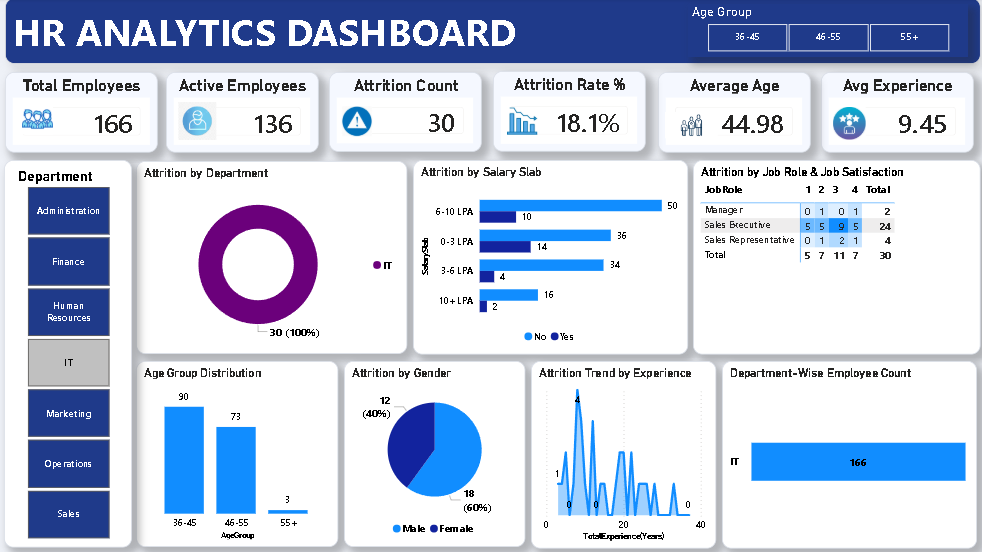

This screenshot's page, from the dashboard's own definition file:
{"tool":"powerbi","page":{"name":"Page 1","canvas":[1280,720],"ordinal":0},"visuals":[{"type":"textbox","box":[10,0,1259,85],"z":0},{"type":"cardVisual","title":"Total Employees","fields":{"Data":["CountNonNull(HR_Analytics-4.EmpID)"]},"box":[10,95,197,104],"z":1000},{"type":"cardVisual","title":"Active Employees","fields":{"Data":["CountNonNull(HR_Analytics-4.EmployeeCount)"]},"box":[218.3,95.4,196.6,104.1],"z":2000},{"type":"cardVisual","title":"Attrition Count","fields":{"Data":["Sum(HR_Analytics-4.Attrition_Count)"]},"box":[428,95.4,196.6,102.7],"z":3000},{"type":"cardVisual","title":"Avg Experience","fields":{"Data":["Avg(HR_Analytics-4.YearsatCompany)"]},"box":[1062.7,95.4,196.6,104.1],"z":4000},{"type":"cardVisual","title":"Average Age","fields":{"Data":["Avg(HR_Analytics-4.Age)"]},"box":[853,95.4,196.6,104.1],"z":5000},{"type":"cardVisual","title":"Attrition Rate %","fields":{"Data":["HR_Analytics-4.Attrition Rate %"]},"box":[640.5,94,196.6,104.1],"z":6000},{"type":"image","box":[32.3,134.2,40,43.9],"z":7000},{"type":"image","box":[1075.1,141.1,50.4,42],"z":8000},{"type":"image","box":[658.1,139.4,38.7,38.7],"z":9000},{"type":"image","box":[440.1,139.4,48.7,38.6],"z":10000},{"type":"image","box":[861.9,129,68.4,69.7],"z":11000},{"type":"image","box":[231.3,134.5,54.9,49.2],"z":12000},{"type":"donutChart","title":"Attrition by Department","fields":{"Category":["HR_Analytics-4.Department"],"Y":["Sum(HR_Analytics-4.Attrition_Count)"]},"box":[179,210,350,249],"z":13000},{"type":"clusteredBarChart","title":"Attrition by Salary Slab","fields":{"Category":["HR_Analytics-4.SalarySlab"],"Y":["CountNonNull(HR_Analytics-4.EmpID)"],"Series":["HR_Analytics-4.Attrition"]},"box":[537,209,355,251],"z":14000},{"type":"pivotTable","title":"Attrition by Job Role & Job Satisfaction","fields":{"Rows":["HR_Analytics-4.JobRole"],"Values":["Sum(HR_Analytics-4.Attrition_Count)"],"Columns":["HR_Analytics-4.JobSatisfaction"]},"box":[898,209,371,251],"z":15000},{"type":"columnChart","title":"Age Group Distribution","fields":{"Category":["HR_Analytics-4.AgeGroup"],"Y":["Sum(HR_Analytics-4.EmployeeCount)"]},"box":[179,469,261,240],"z":16000},{"type":"pieChart","title":"Attrition by Gender","fields":{"Category":["HR_Analytics-4.Gender"],"Y":["Sum(HR_Analytics-4.Attrition_Count)"]},"box":[448,469,234,240],"z":17000},{"type":"areaChart","title":"Attrition Trend by Experience","fields":{"Category":["HR_Analytics-4.TotalExperience(Years)"],"Y2":["Sum(HR_Analytics-4.Attrition_Count)"]},"box":[689,469,239,242],"z":18000},{"type":"funnel","title":"Department-Wise Employee Count","fields":{"Category":["HR_Analytics-4.Department"],"Y":["CountNonNull(HR_Analytics-4.EmpID)"]},"box":[935.6,468.7,329.2,241.9],"z":19000},{"type":"slicer","fields":{"Values":["HR_Analytics-4.Department"]},"box":[9,209,165,500],"z":20000},{"type":"slicer","title":"Age Group","fields":{"Values":["HR_Analytics-4.AgeGroup"]},"box":[892,7.2,361.4,68],"z":21000}]}

Visuals, with their boxes in screenshot pixels (x1, y1, x2, y2), scaled from the page's 1280x720 canvas onto the 982x552 screenshot:
textbox: [8,0,974,65]
"Total Employees" cardVisual: [8,73,159,153]
"Active Employees" cardVisual: [167,73,318,153]
"Attrition Count" cardVisual: [328,73,479,152]
"Avg Experience" cardVisual: [815,73,966,153]
"Average Age" cardVisual: [654,73,805,153]
"Attrition Rate %" cardVisual: [491,72,642,152]
image: [25,103,55,137]
image: [825,108,863,140]
image: [505,107,535,137]
image: [338,107,375,136]
image: [661,99,714,152]
image: [177,103,220,141]
"Attrition by Department" donutChart: [137,161,406,352]
"Attrition by Salary Slab" clusteredBarChart: [412,160,684,353]
"Attrition by Job Role & Job Satisfaction" pivotTable: [689,160,974,353]
"Age Group Distribution" columnChart: [137,360,338,544]
"Attrition by Gender" pieChart: [344,360,523,544]
"Attrition Trend by Experience" areaChart: [529,360,712,545]
"Department-Wise Employee Count" funnel: [718,359,970,545]
slicer - HR_Analytics-4.Department: [7,160,133,544]
"Age Group" slicer: [684,6,962,58]
